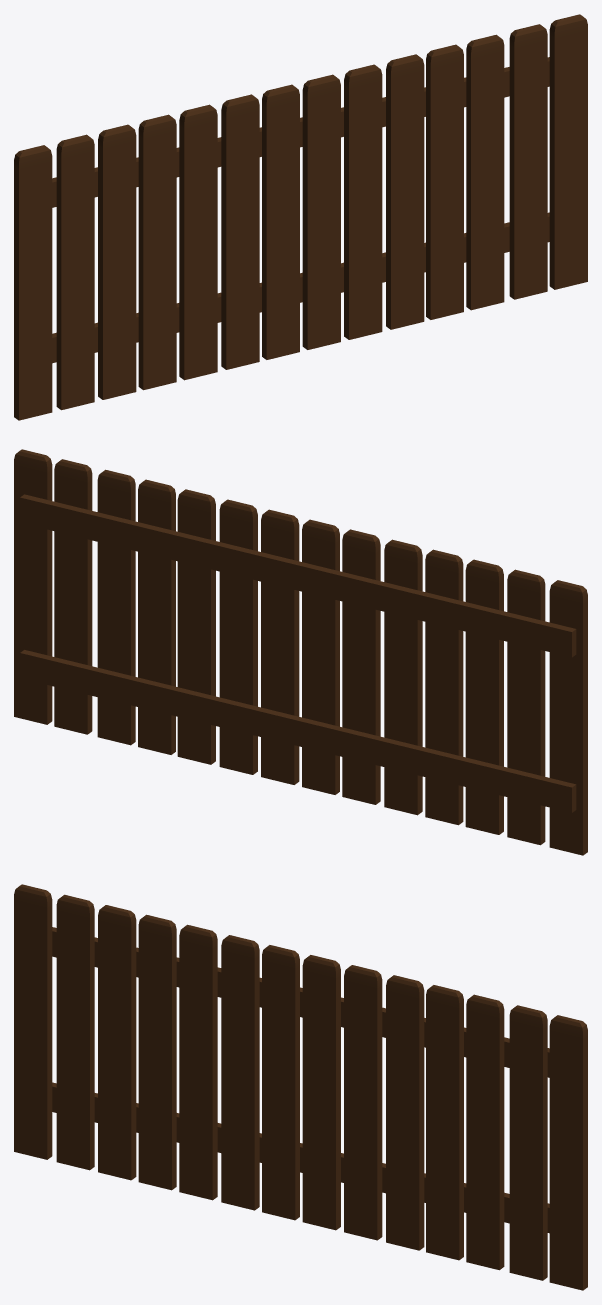
The model's file is Fence.FBX.
3 views of the same model, one above another, from view 1: azimuth 30°, elevation 25°; view 2: azimuth 150°, elevation 25°; view 3: azimuth 330°, elevation 25° (orthographic).
Visible parts, largest first — view 1: PicketFence; view 2: PicketFence; view 3: PicketFence.
Boxes of the visible parts, x1,y1,x2,y2 form: PicketFence: (14,14,587,420); PicketFence: (14,449,587,855); PicketFence: (14,884,587,1290).
Bounding box in the file's own units: 314 × 141 × 8.88.
